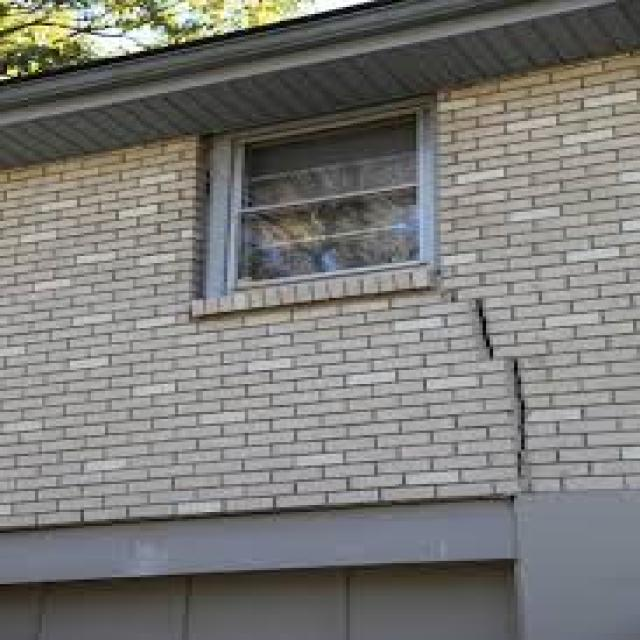Crack: (441, 284, 532, 489)
